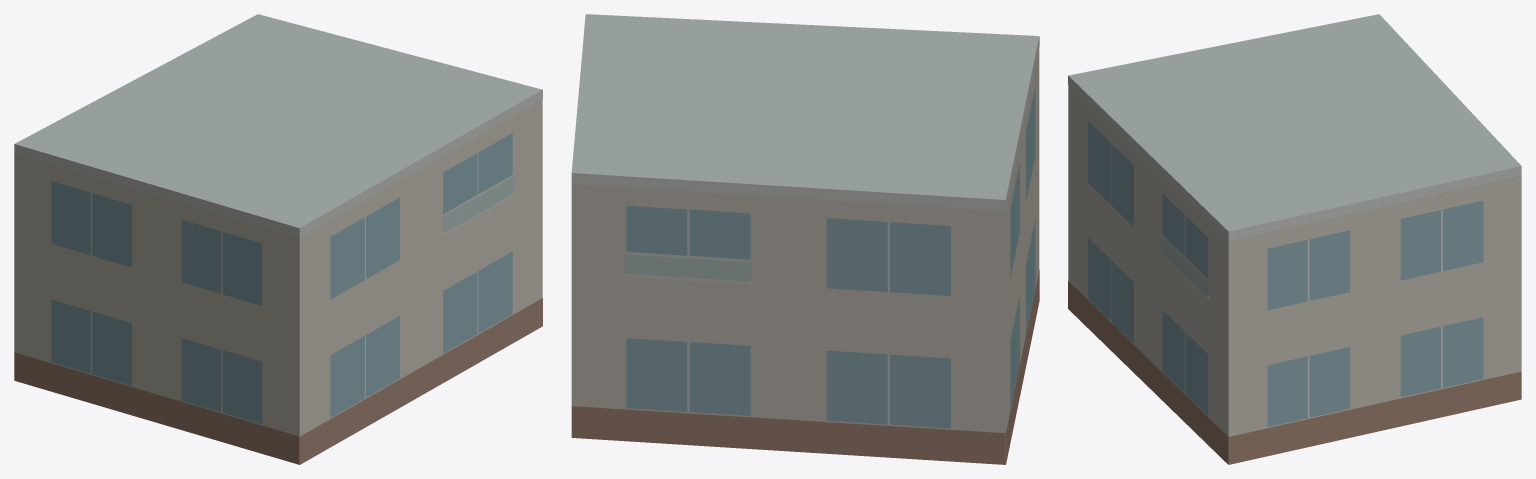
File: survey-upis-33042777.glb
The picture shows the model from 3 angles, left to right: view 1: azimuth 30°, elevation 25°; view 2: azimuth 150°, elevation 25°; view 3: azimuth 270°, elevation 25°; orthographic projection. The views are drawn at different scales.
Visible parts, largest first — view 1: survey-upis-33042777.tmp; view 2: survey-upis-33042777.tmp; view 3: survey-upis-33042777.tmp.
Part boxes in pixels (<box>): survey-upis-33042777.tmp: <box>14,14,542,464</box>; survey-upis-33042777.tmp: <box>571,14,1039,464</box>; survey-upis-33042777.tmp: <box>1068,14,1521,464</box>.
Bounding box in the file's own units: 12.2 × 6.1 × 10.75.
